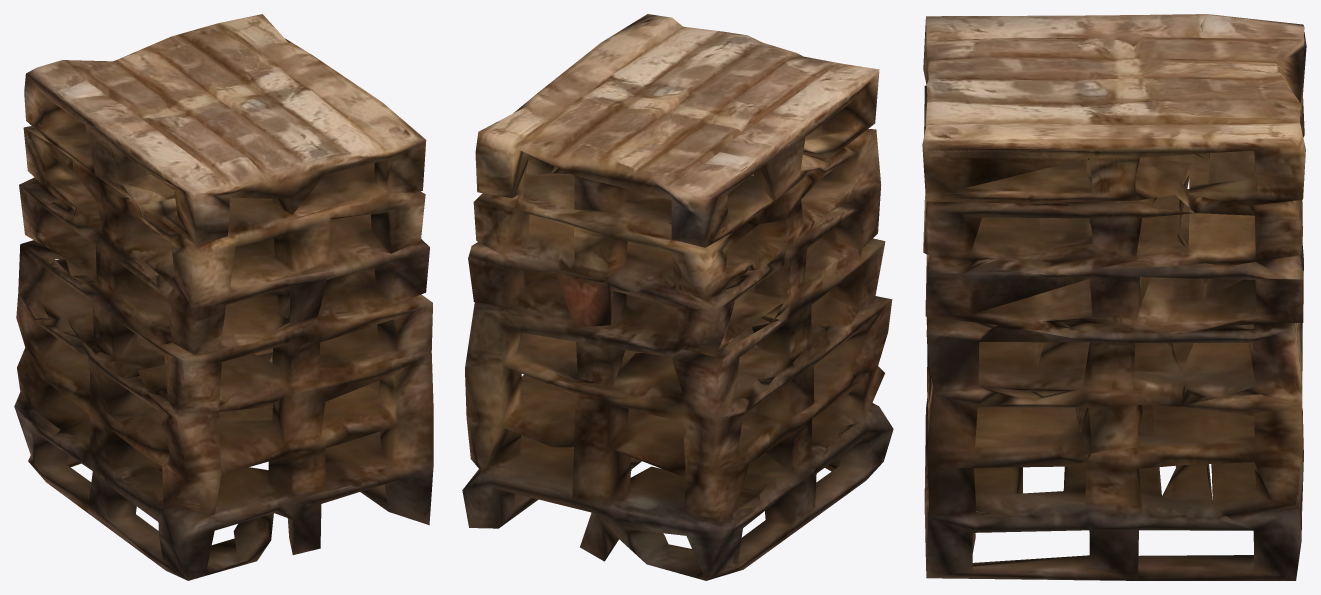
Rendered from qr_pallets.glb.
3 renders of one model, left to right at view 1: azimuth 30°, elevation 25°; view 2: azimuth 150°, elevation 25°; view 3: azimuth 270°, elevation 25°, orthographic. The views are drawn at different scales.
Parts seen in each view (by area): view 1: tripo_node_7b3394d2-6ca6-4548-b2b5-b5df8f193836; view 2: tripo_node_7b3394d2-6ca6-4548-b2b5-b5df8f193836; view 3: tripo_node_7b3394d2-6ca6-4548-b2b5-b5df8f193836.
Part boxes in pixels (x1,y1,x2,y2): tripo_node_7b3394d2-6ca6-4548-b2b5-b5df8f193836: (14,14,433,580); tripo_node_7b3394d2-6ca6-4548-b2b5-b5df8f193836: (462,14,893,580); tripo_node_7b3394d2-6ca6-4548-b2b5-b5df8f193836: (922,14,1306,580).
Size of the model in its own units: 0.6925 by 1 by 0.7885.
Materials: 1 (1 with a texture image).
